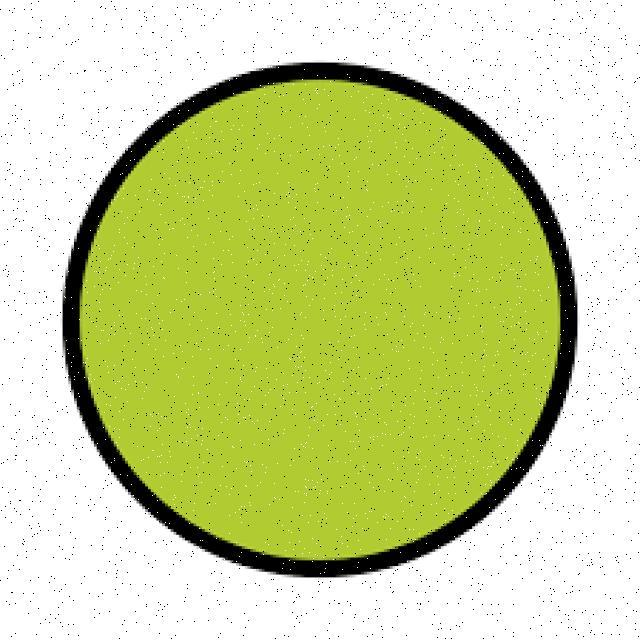Circle: (57, 63, 577, 577)
